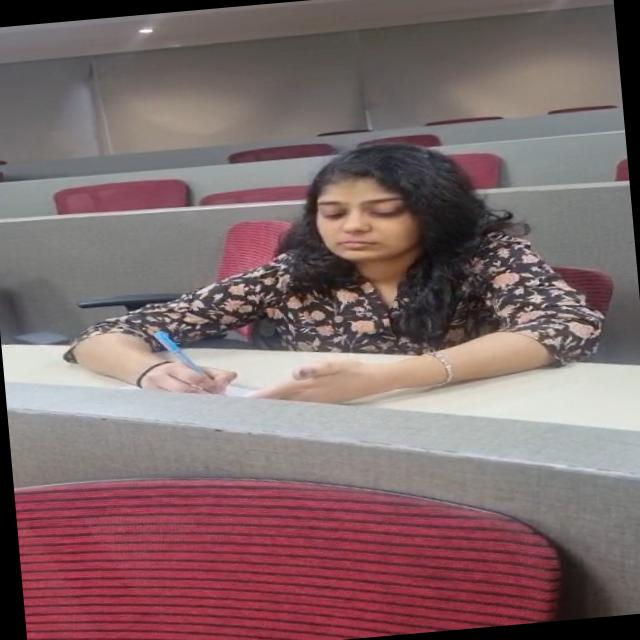cheating: (118, 99, 593, 438)
